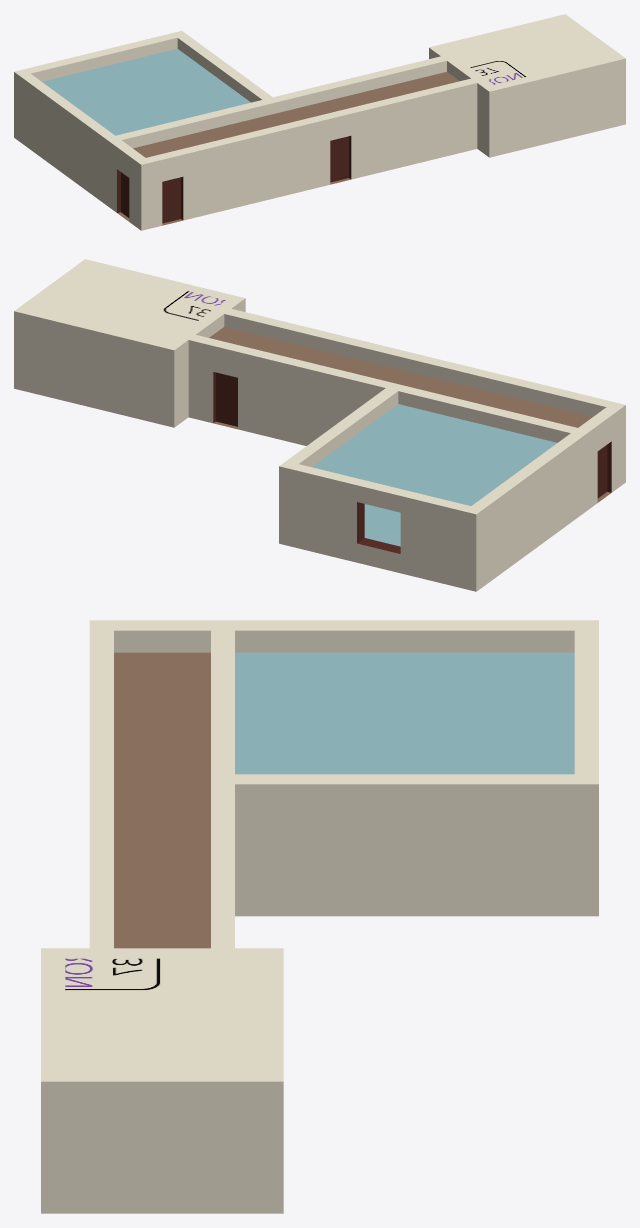
File: SM_Building.fbx
The picture shows the model from 3 angles, top to bottom: view 1: azimuth 30°, elevation 25°; view 2: azimuth 150°, elevation 25°; view 3: azimuth 270°, elevation 25°; orthographic projection. The views are drawn at different scales.
Visible parts, largest first — view 1: SM_Building; view 2: SM_Building; view 3: SM_Building.
Part boxes in pixels (box(x1,y1,x2,y2)): SM_Building: box(14, 14, 625, 230); SM_Building: box(14, 259, 625, 591); SM_Building: box(41, 620, 598, 1213).
Bounding box in the file's own units: 22.5 × 3 × 11.5.
